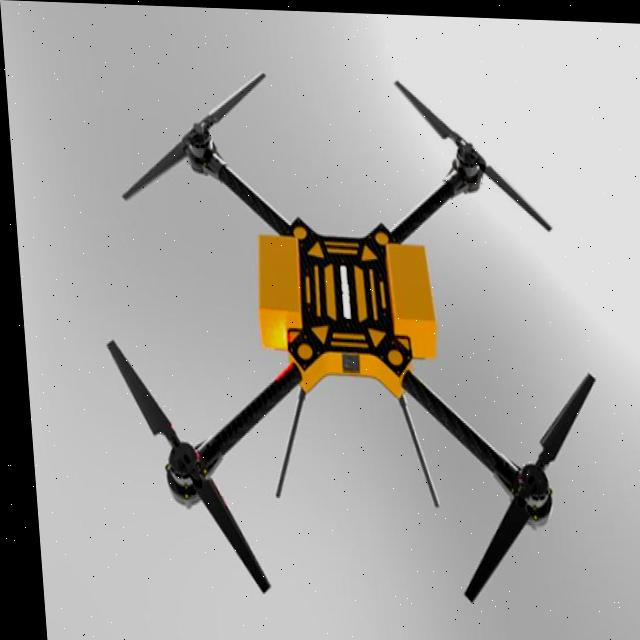drone: (85, 48, 609, 621)
